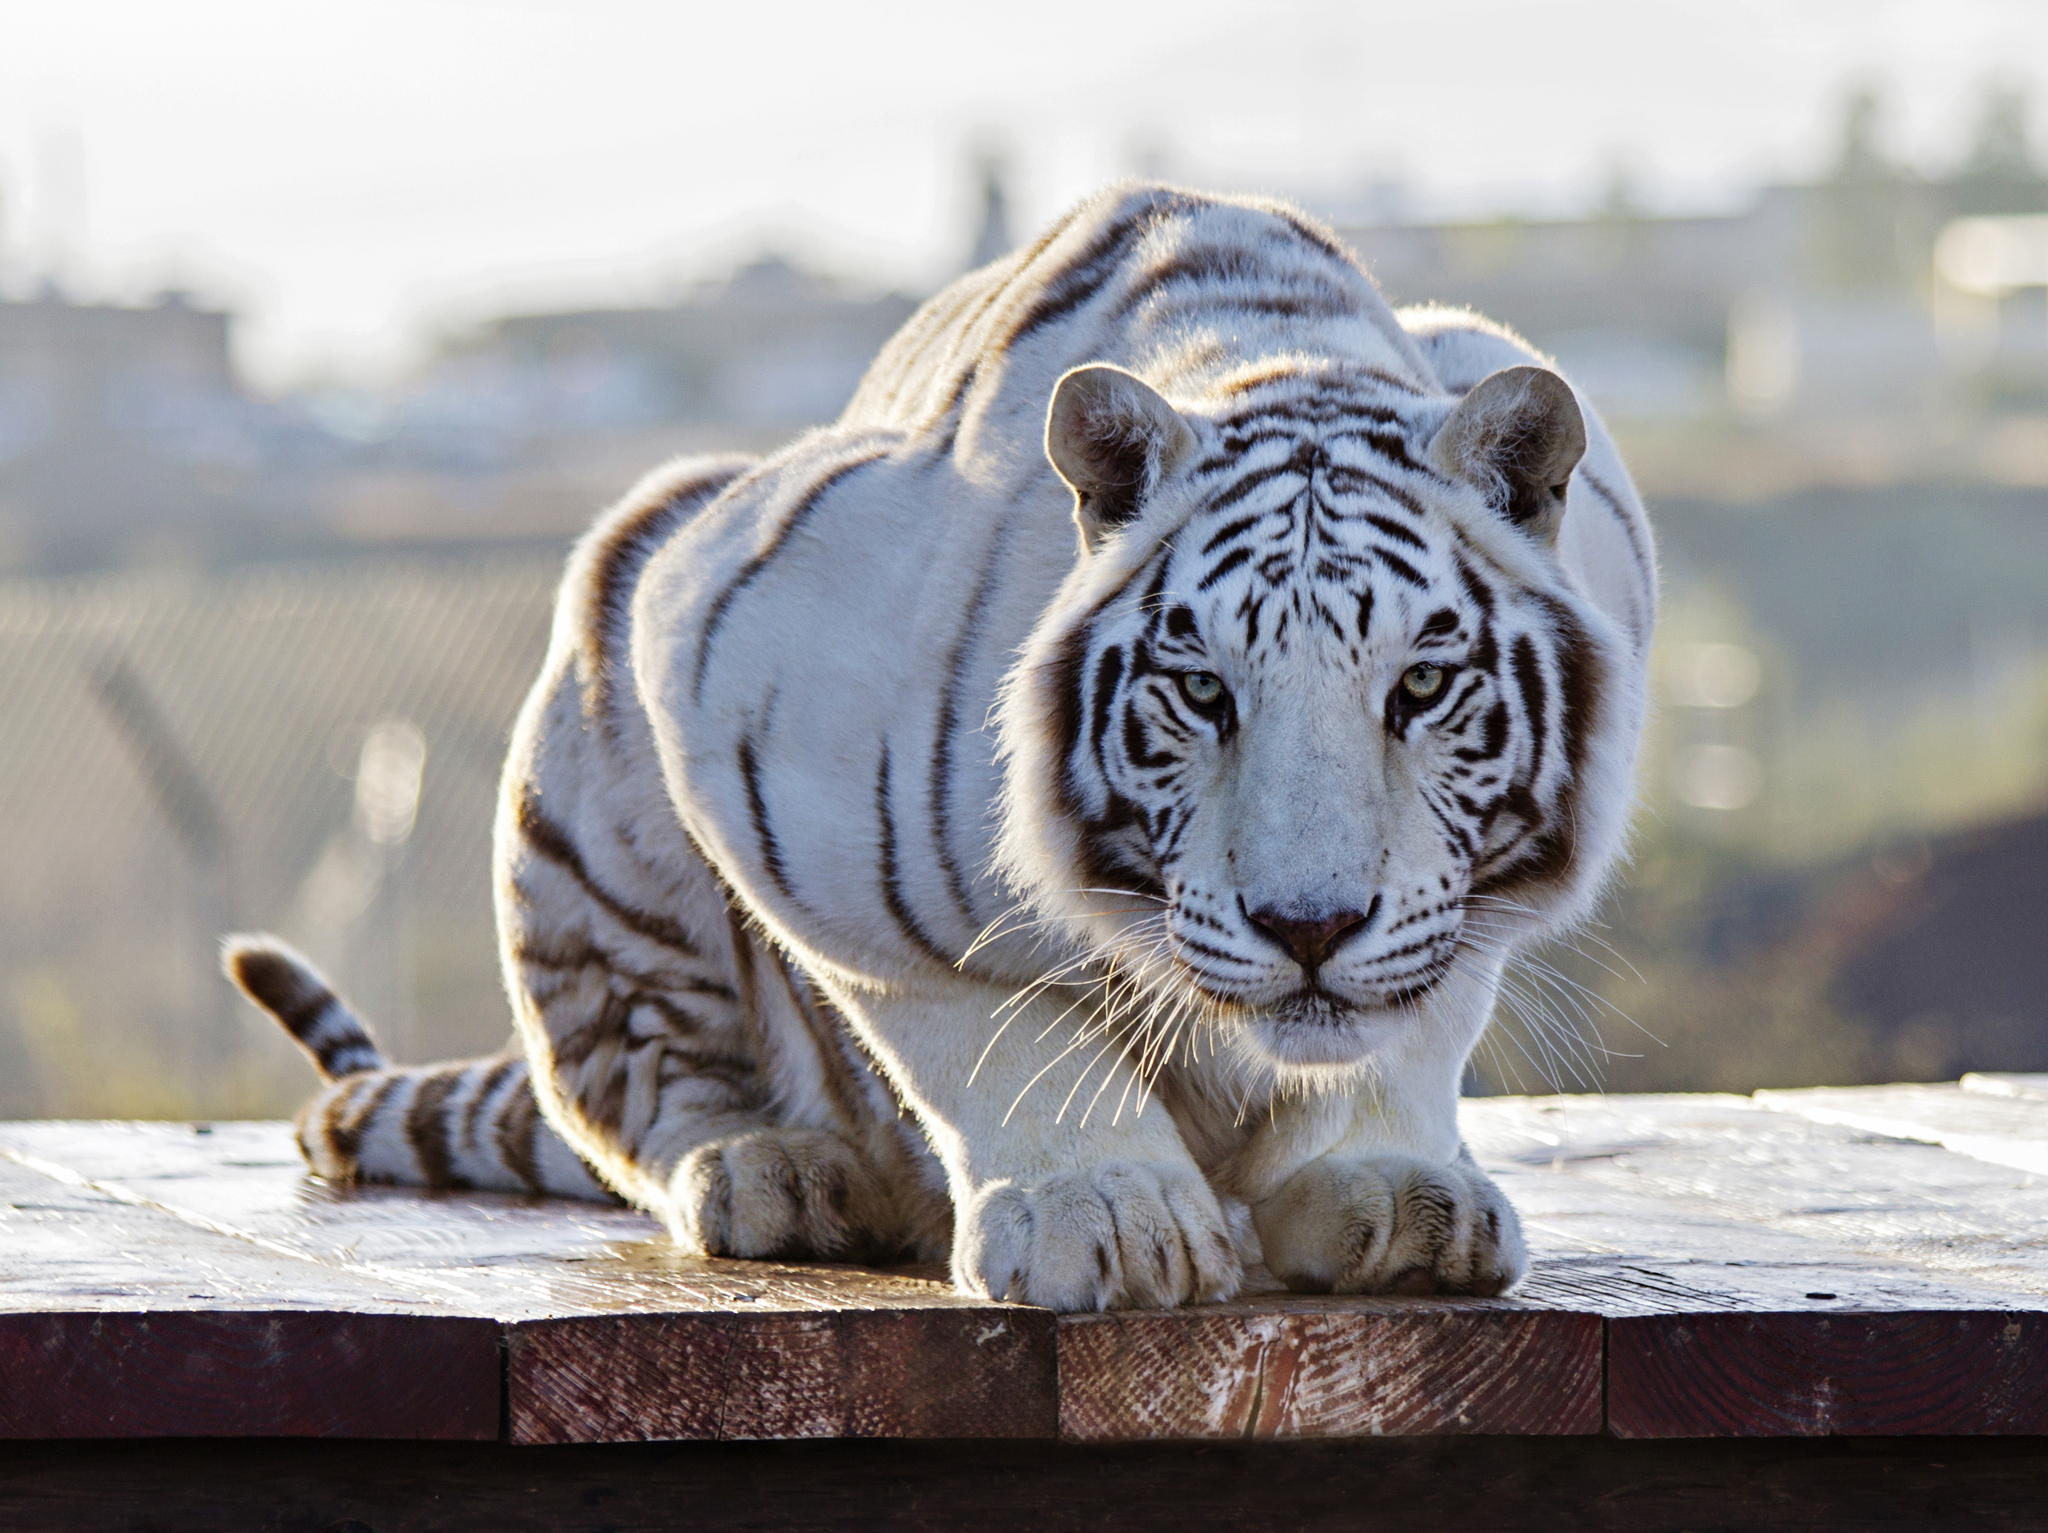tiger: (506, 196, 1654, 1337)
